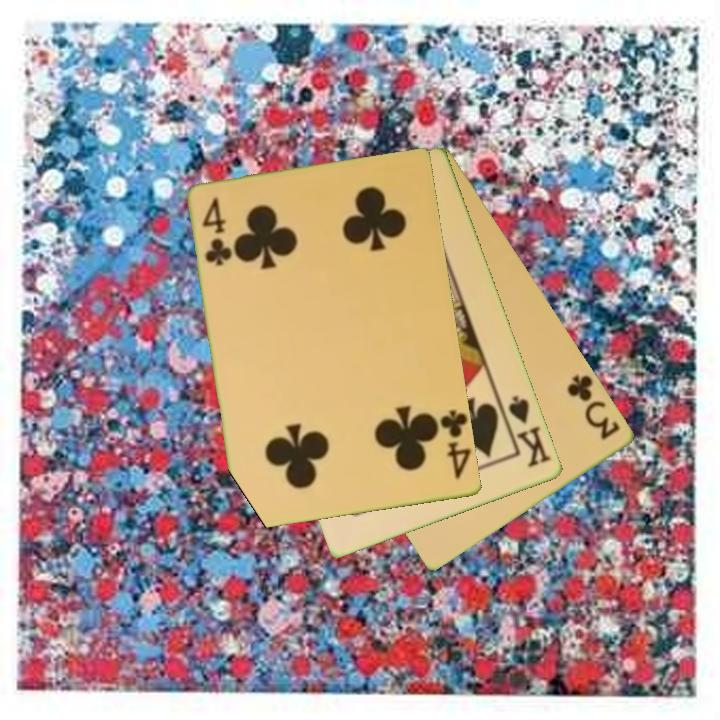3c: (564, 371, 623, 443)
4c: (437, 406, 473, 482), (199, 195, 234, 270)
Ks: (498, 392, 555, 471)
